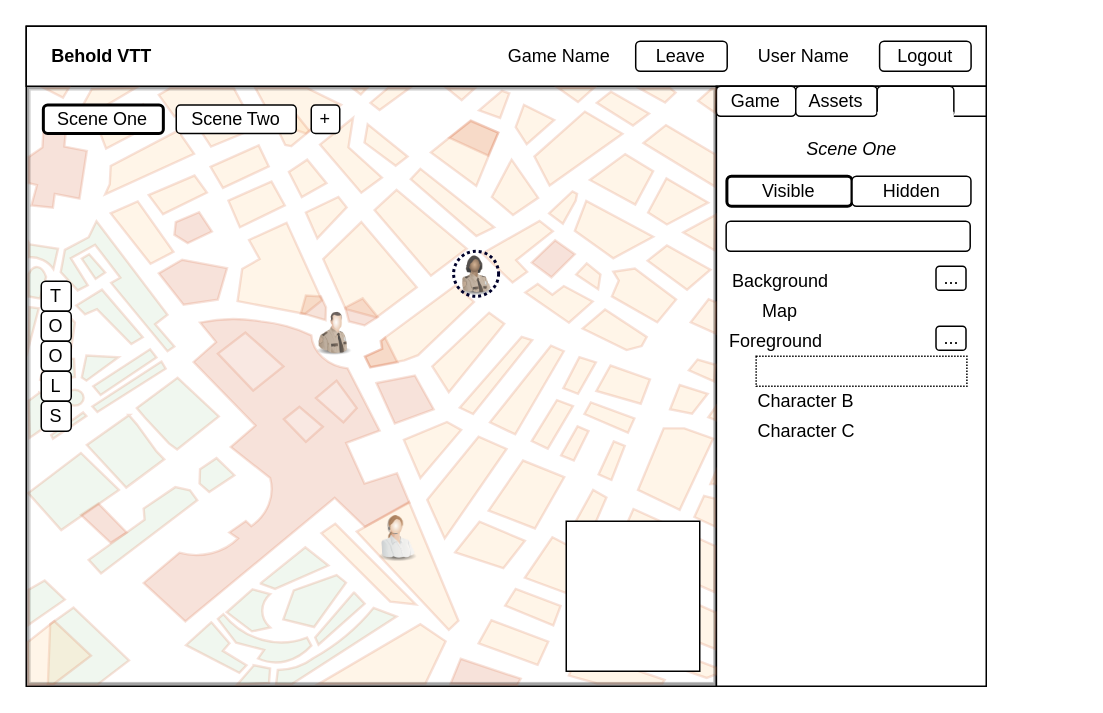
The diagram is 1103 pixels wide and 713 high, and some of its shapes have lost their labels. The shapes that lost their labels are listed below. From the top down, each one's centre as x and y in pixels, then its label:
the point at 915,100: Scene
the point at 847,235: Add Layer
the point at 861,370: Character A
the point at 632,595: Selected Piece Properties
